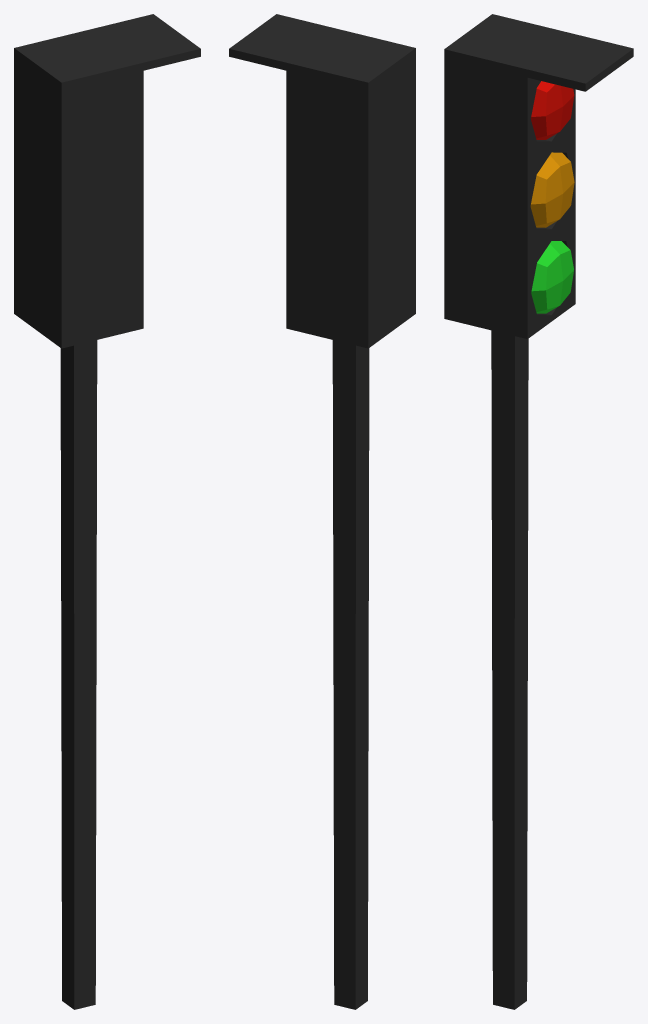
Rendered from traffic_light.fbx.
3 renders of one model, left to right at view 1: azimuth 30°, elevation 25°; view 2: azimuth 150°, elevation 25°; view 3: azimuth 330°, elevation 25°, orthographic.
Parts seen in each view (by area): view 1: traffic_light; view 2: traffic_light; view 3: traffic_light.
Part boxes in pixels (box(x1,y1,x2,y2)): traffic_light: box(14, 14, 200, 1009); traffic_light: box(229, 14, 415, 1009); traffic_light: box(444, 14, 633, 1009).
Bounding box in the file's own units: 67.83 × 441 × 40.
